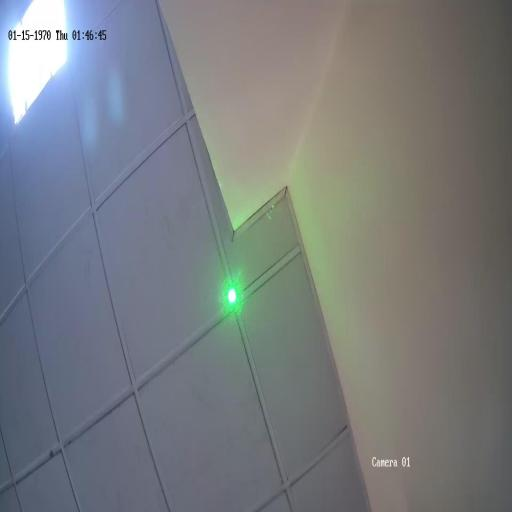laser: (226, 284, 238, 310)
